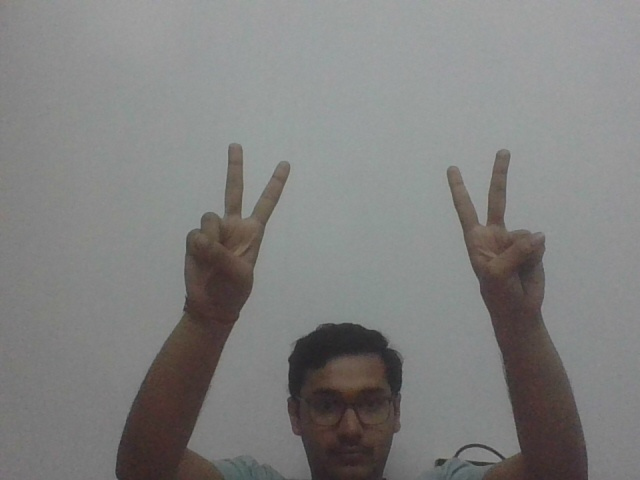V: (434, 133, 563, 325), (176, 135, 296, 322)
